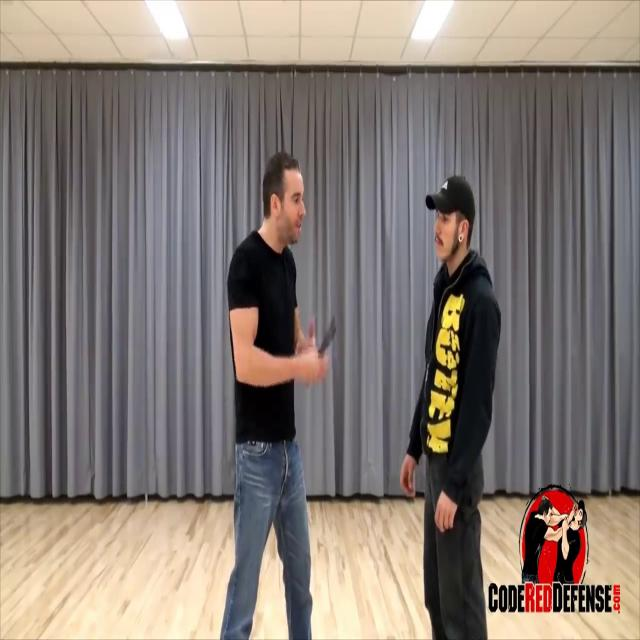Knife_Handle: (296, 314, 336, 386)
